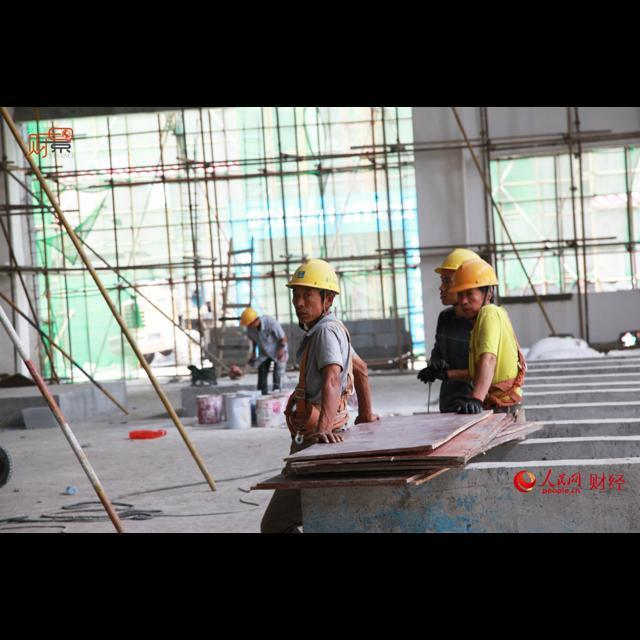helmet: (280, 250, 352, 296), (449, 255, 510, 307), (432, 240, 490, 282), (232, 300, 264, 336)
safety_vest: (277, 324, 360, 440), (454, 300, 530, 418)
